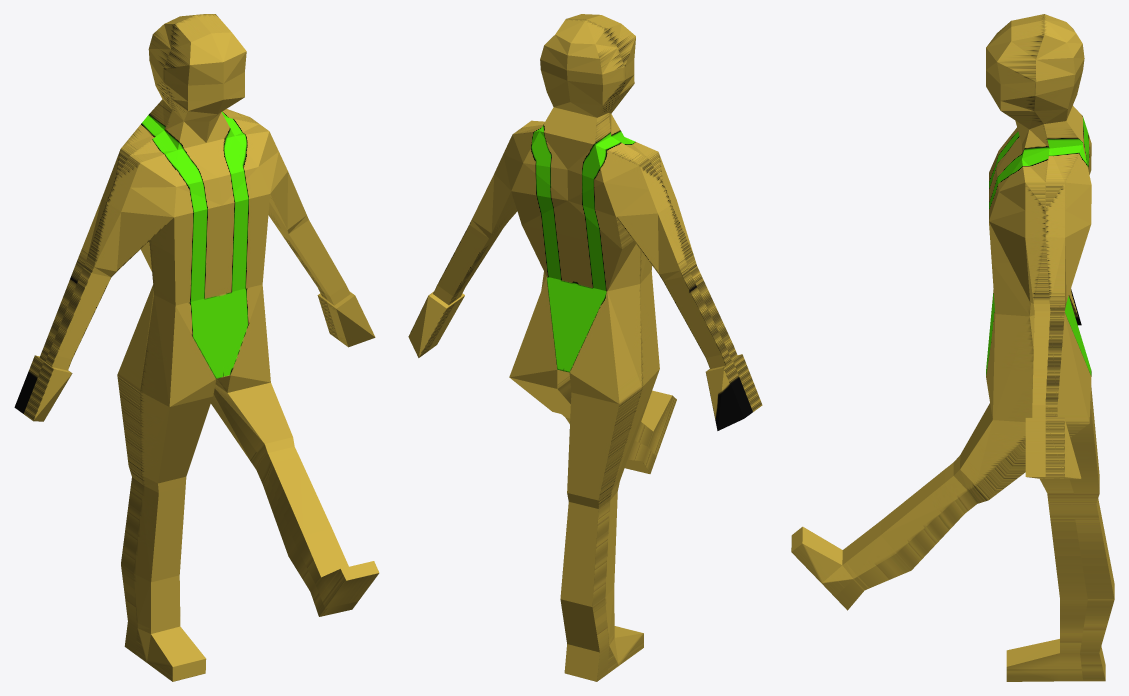
3 renders of one model, left to right at view 1: azimuth 30°, elevation 25°; view 2: azimuth 150°, elevation 25°; view 3: azimuth 270°, elevation 25°, orthographic. The views are drawn at different scales.
Visible parts, largest first — view 1: Borat; view 2: Borat; view 3: Borat.
Part boxes in pixels (x1,y1,x2,y2): Borat: (14,14,379,681); Borat: (408,14,762,681); Borat: (791,14,1114,681).
Bounding box in the file's own units: 1.79 × 3.21 × 1.41.
